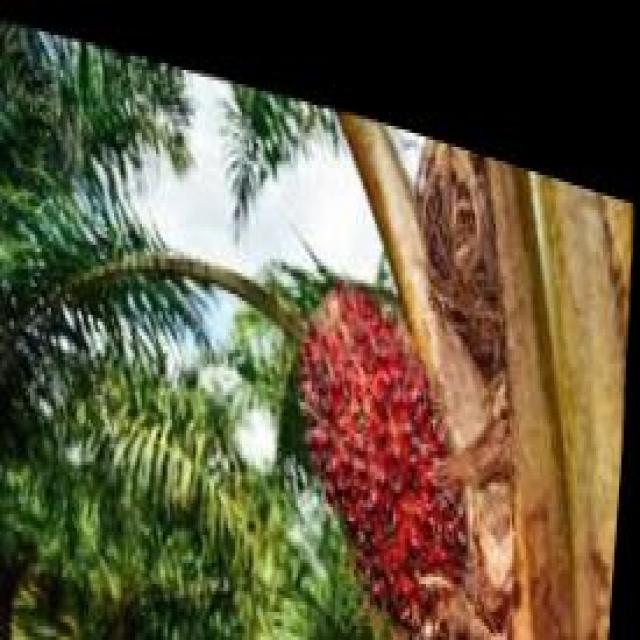Ripefruit: (286, 234, 491, 612)
